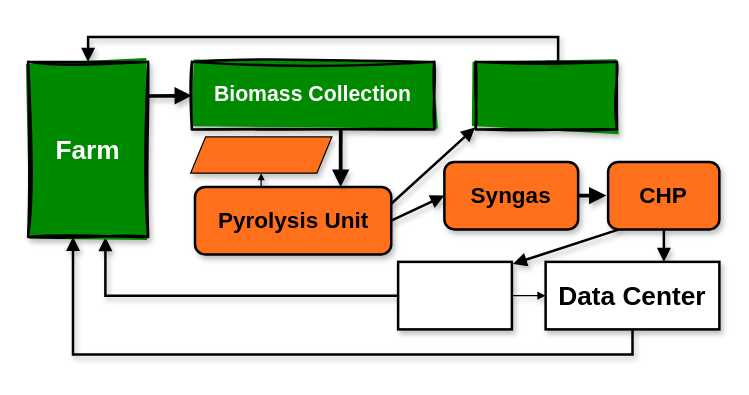
Some shapes in this 749 by 395 pixel diagram are drawn without their labels. The centre of each missing label's shape, as x and y in pixels:
Biochar: the point at 547,97
Excess Heat used to dry biomass: the point at 261,156
Grid: the point at 455,297
